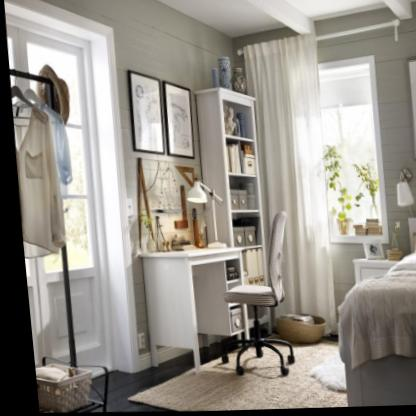Bed: (320, 213, 416, 409)
Chair: (202, 208, 296, 381)
